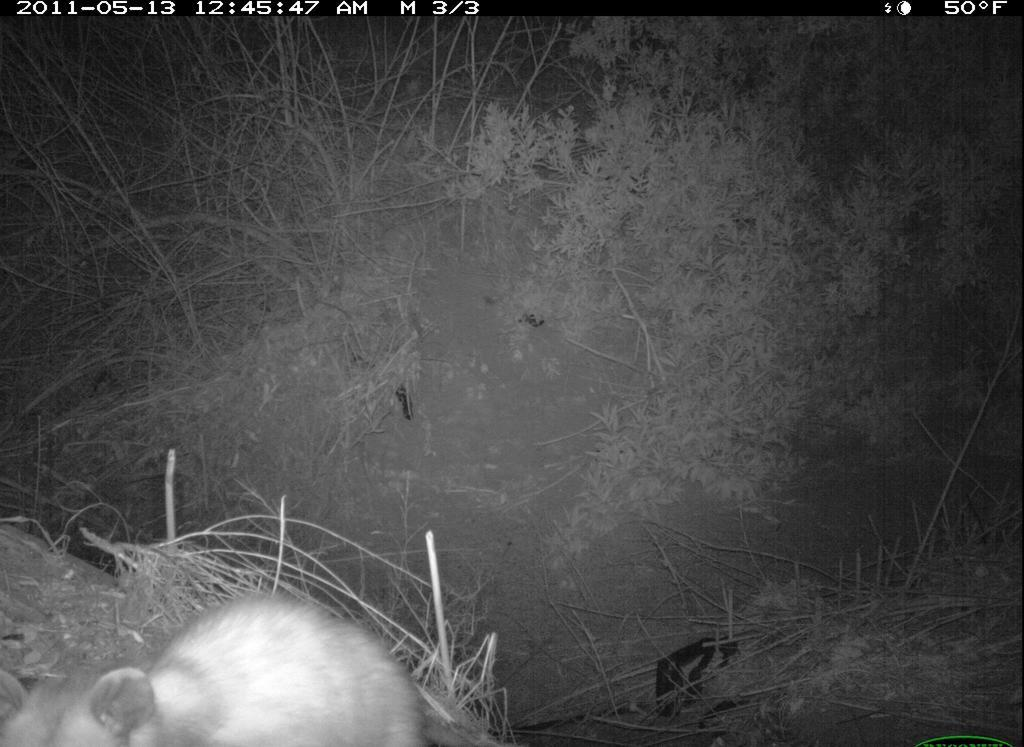opossum: (9, 565, 481, 745)
